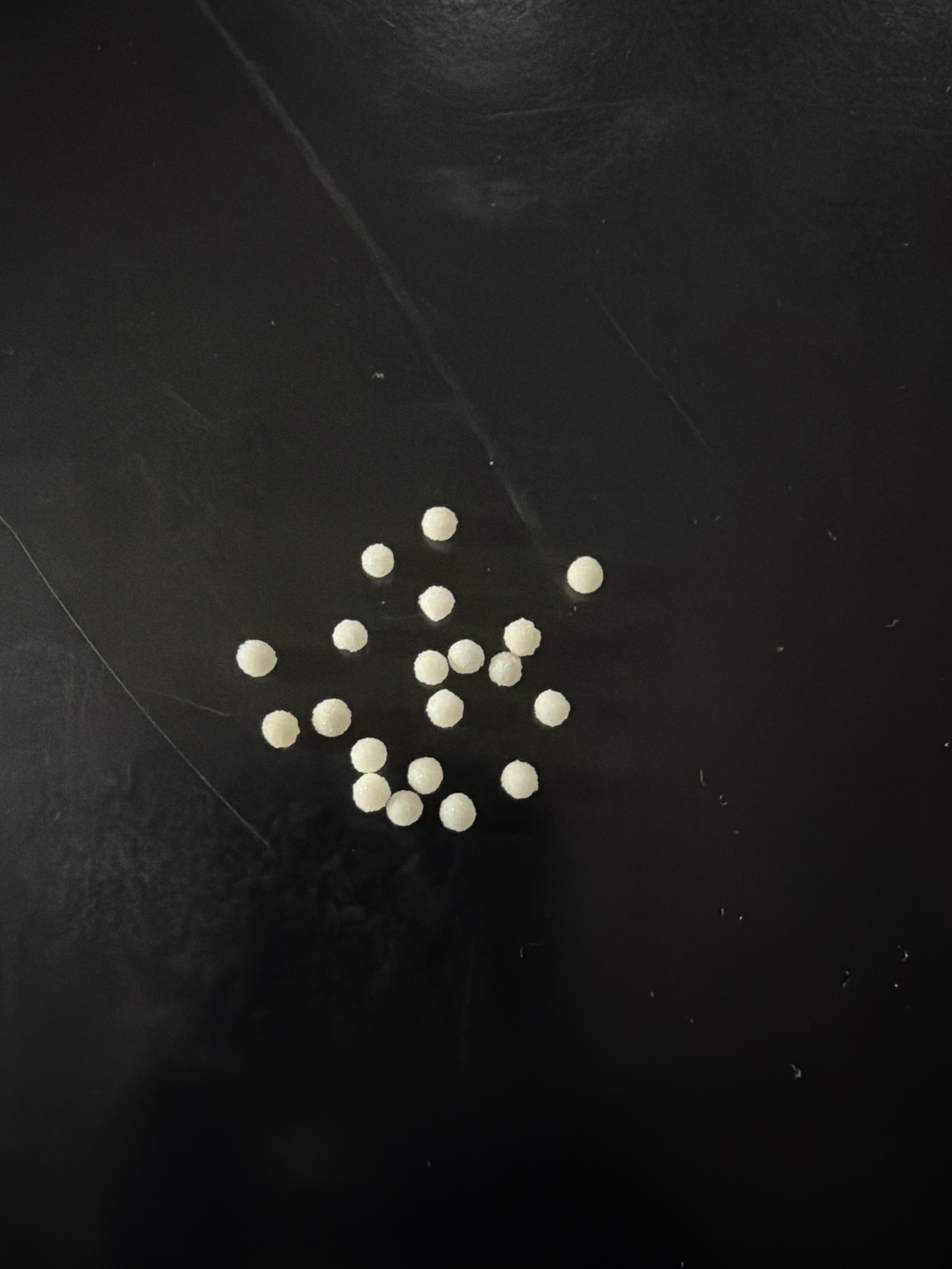pill: (312, 698, 351, 738), (236, 639, 277, 677), (503, 618, 541, 657), (426, 689, 464, 728), (353, 773, 390, 813), (261, 710, 299, 748), (439, 793, 476, 832), (501, 760, 538, 799), (566, 556, 603, 594), (534, 689, 570, 727), (386, 790, 423, 826), (350, 737, 386, 773), (422, 506, 458, 542), (418, 586, 455, 621), (408, 757, 443, 794), (448, 639, 484, 674), (414, 650, 449, 686), (488, 652, 522, 687), (361, 543, 394, 578), (332, 620, 368, 652)
